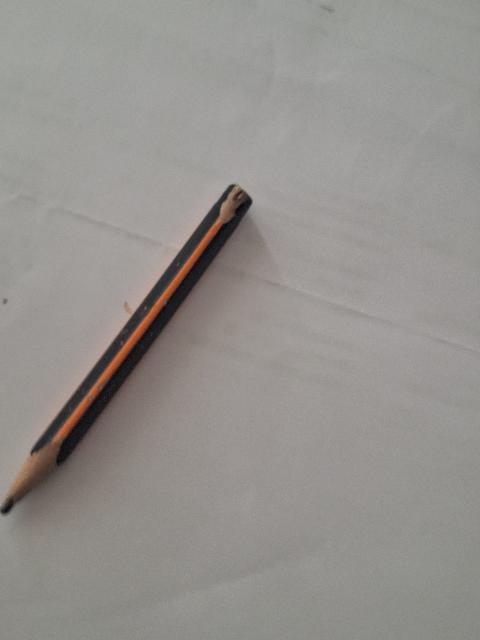writing_tool: (2, 181, 253, 516)
